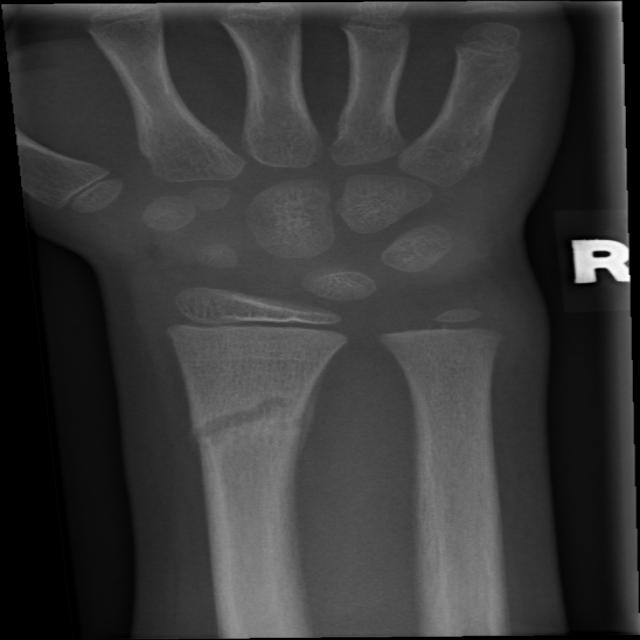radius fracture: (165, 350, 344, 522)
